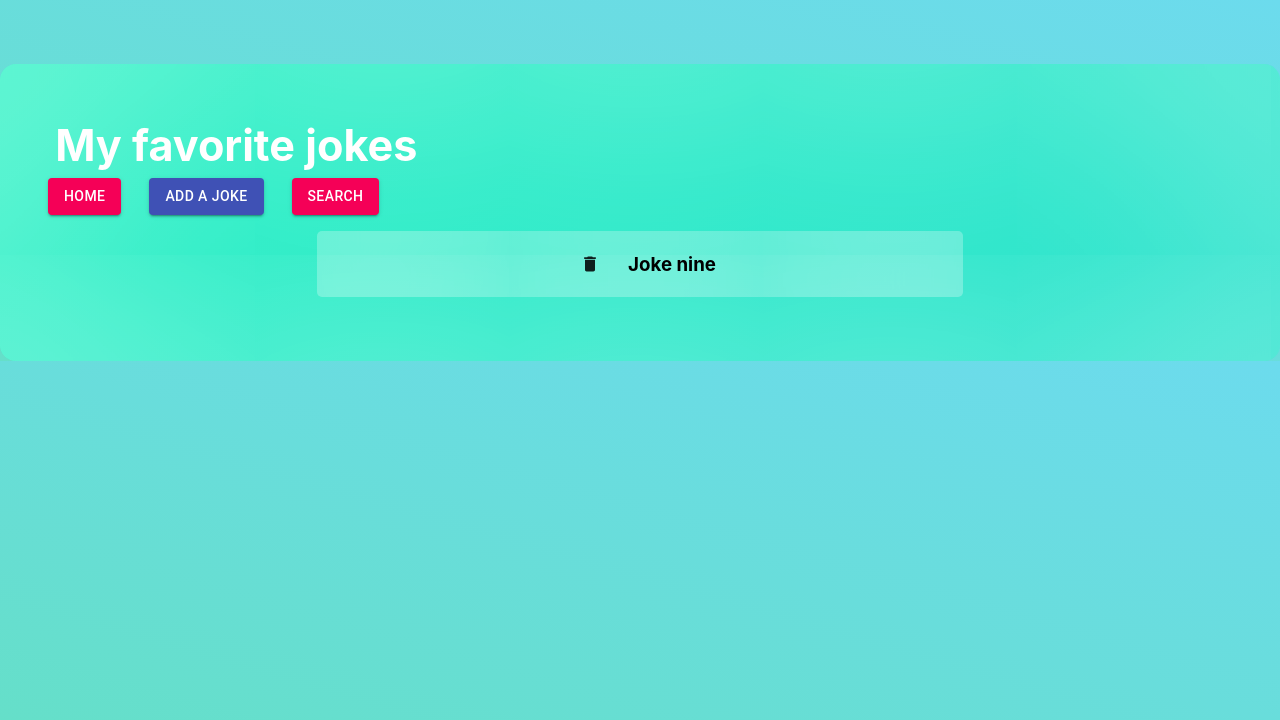
Test: Saved › should remove a joke when the delete button is pressed
Expected: the heading "Joke nine" is shown, [628, 253, 716, 276]
Click the button with test id "delete". click: (596, 264)
box: [564, 234, 628, 294]
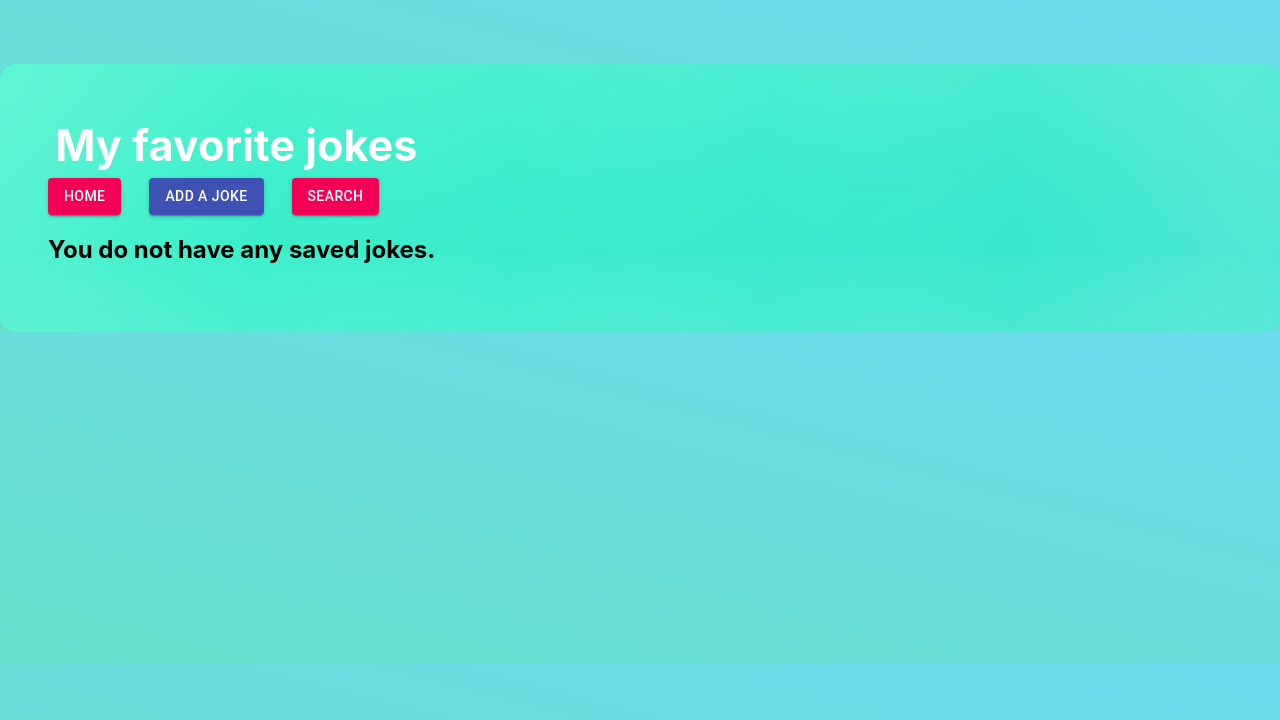
Expected: the heading "Joke nine" is gone
